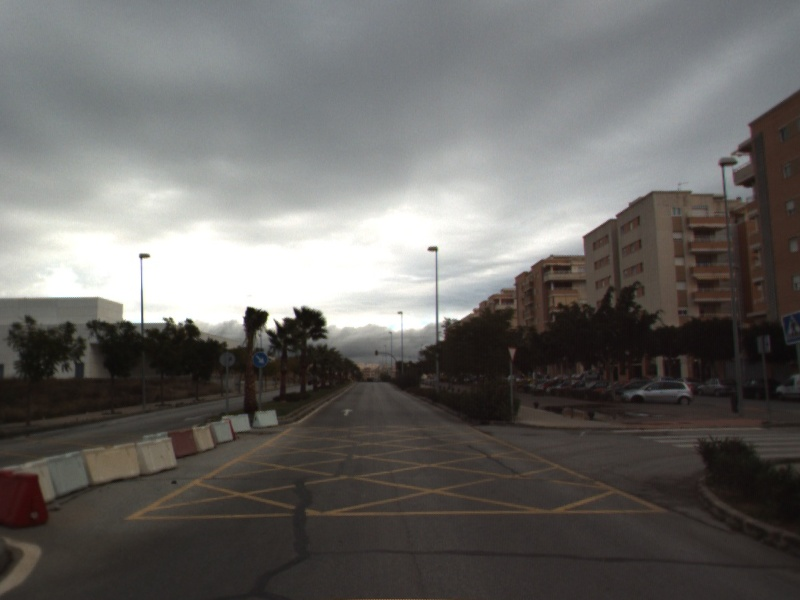STRAIGHT: (339, 406, 356, 418)
